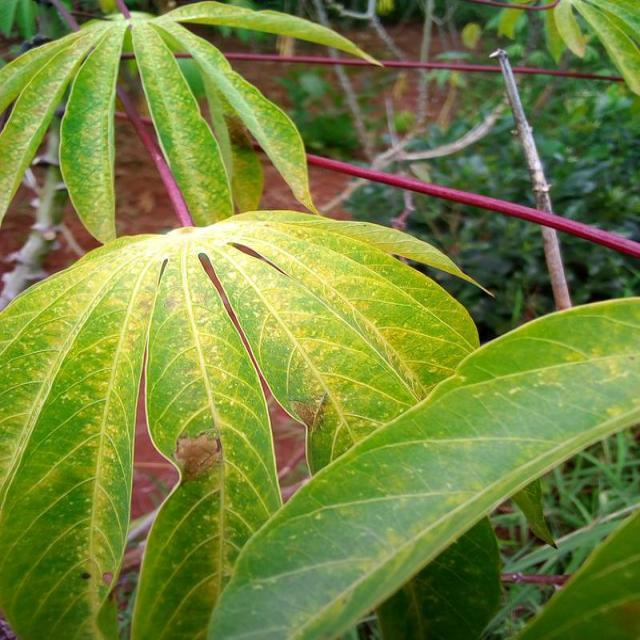cassava leaf: (0, 209, 489, 638), (206, 293, 638, 638)
